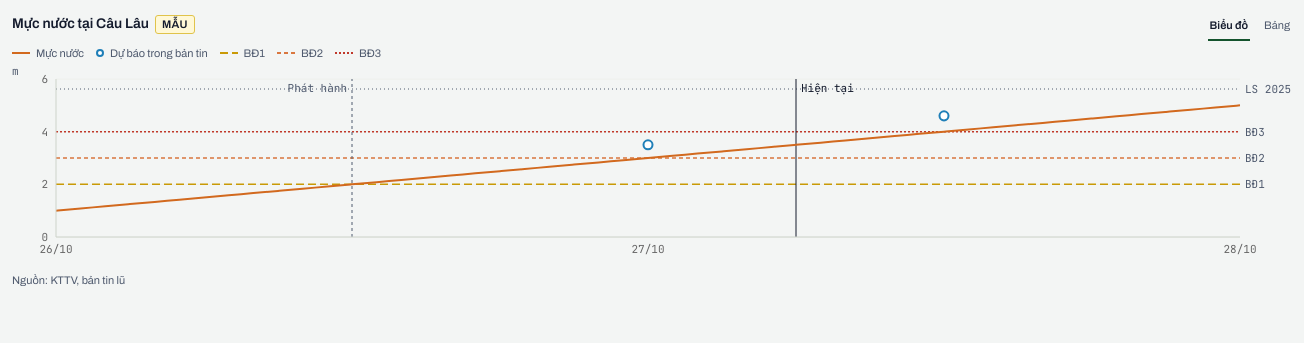
Test: LevelChartView › has a table view listing every hour, the current one marked
The width and height of the screenshot is (1304, 343).
What coordinates should you click on to do the following:
click the tab "Bảng"
I would click on:
 (1277, 26)
Its box is [1262,12,1292,41].
(page scrolled)
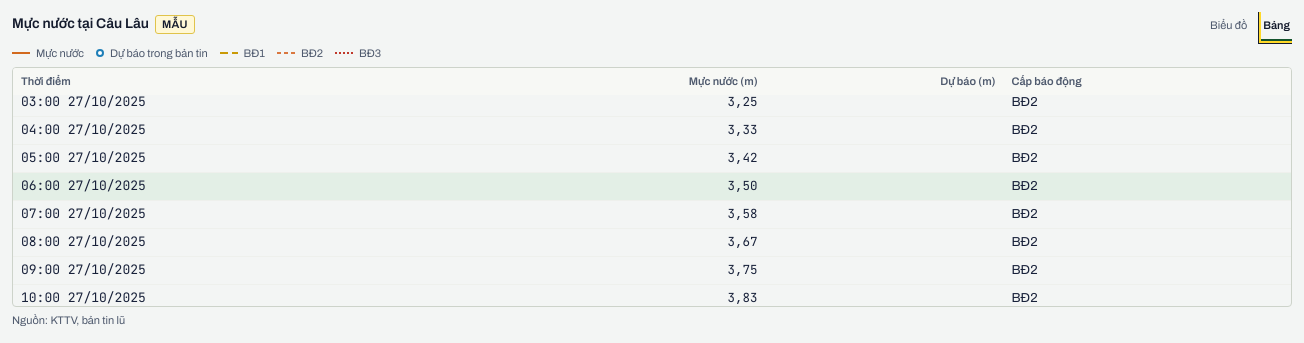
Result: the column headings read "Thời điểm", "Mực nước (m)", "Dự báo (m)", "Cấp báo động", in this order at [13,68,483,96]; [483,68,766,96]; [766,68,1004,96]; [1004,68,1291,96]
